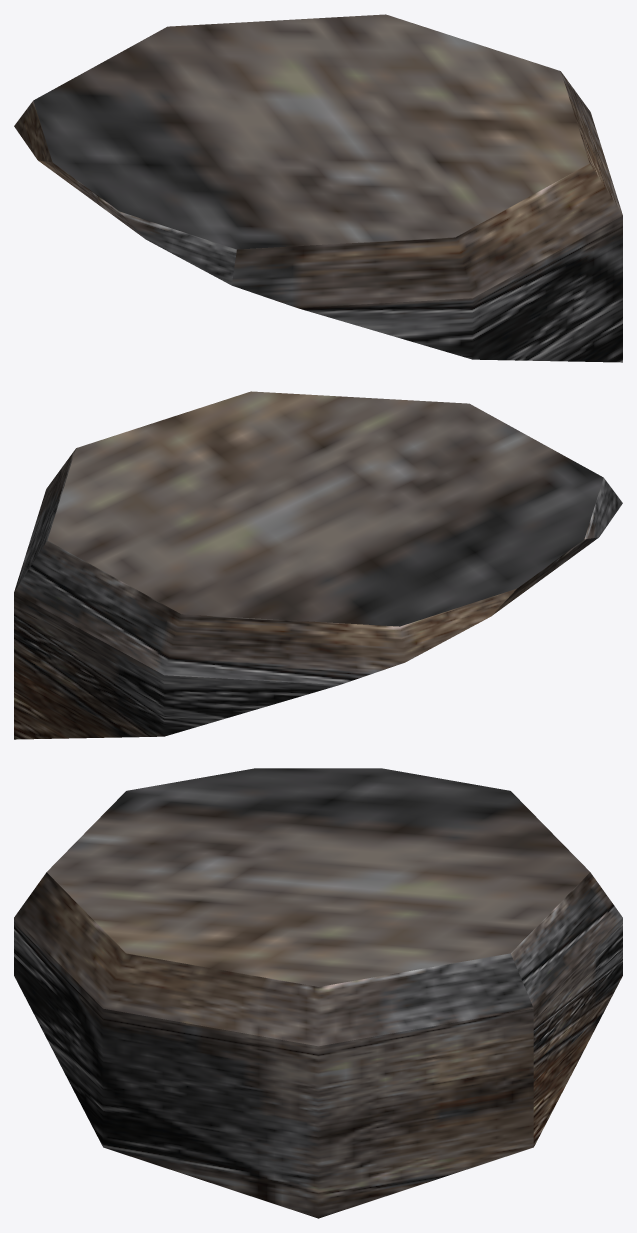
The picture shows the model from 3 angles, top to bottom: view 1: azimuth 30°, elevation 25°; view 2: azimuth 150°, elevation 25°; view 3: azimuth 270°, elevation 25°; orthographic projection. The views are drawn at different scales.
Parts seen in each view (by area): view 1: SMDImport; view 2: SMDImport; view 3: SMDImport.
Boxes of the visible parts, x1,y1,x2,y2 form: SMDImport: [14, 14, 622, 362]; SMDImport: [14, 391, 622, 739]; SMDImport: [14, 768, 622, 1218].
Size of the model in its own units: 86.46 by 37.78 by 95.73.
